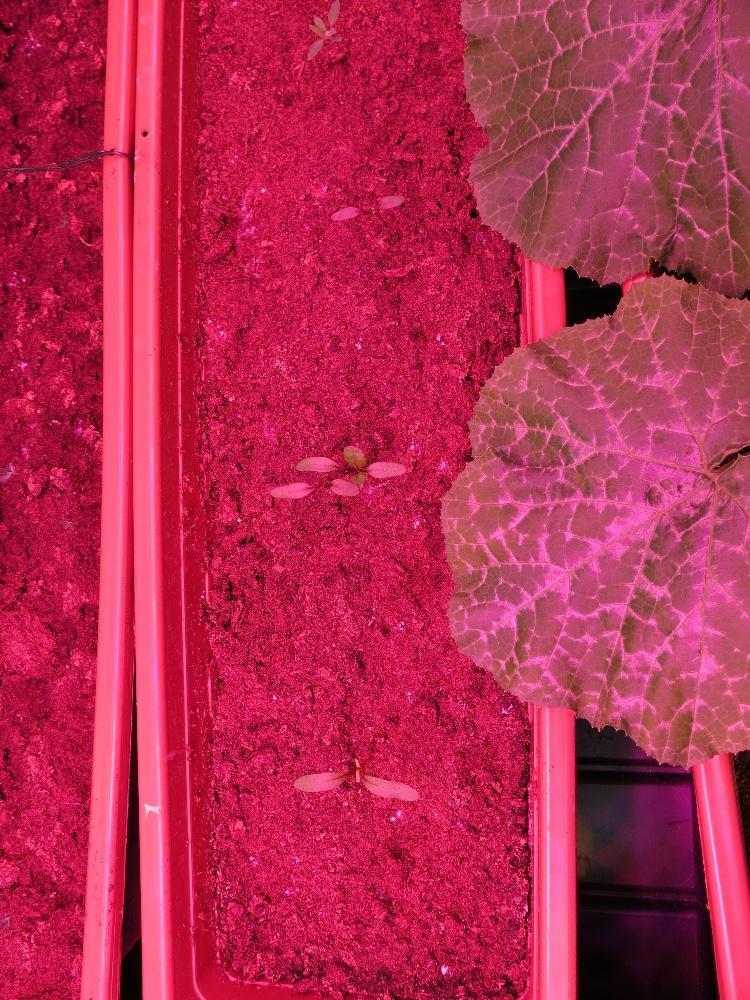crop: (291, 753, 419, 806), (327, 188, 404, 223)
weed: (305, 0, 342, 61)
